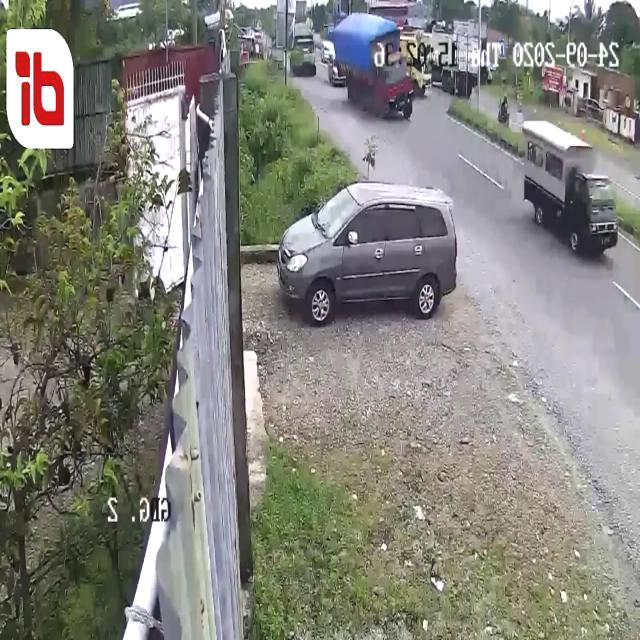accident: (341, 13, 429, 121)
non-accident: (290, 24, 342, 86)
